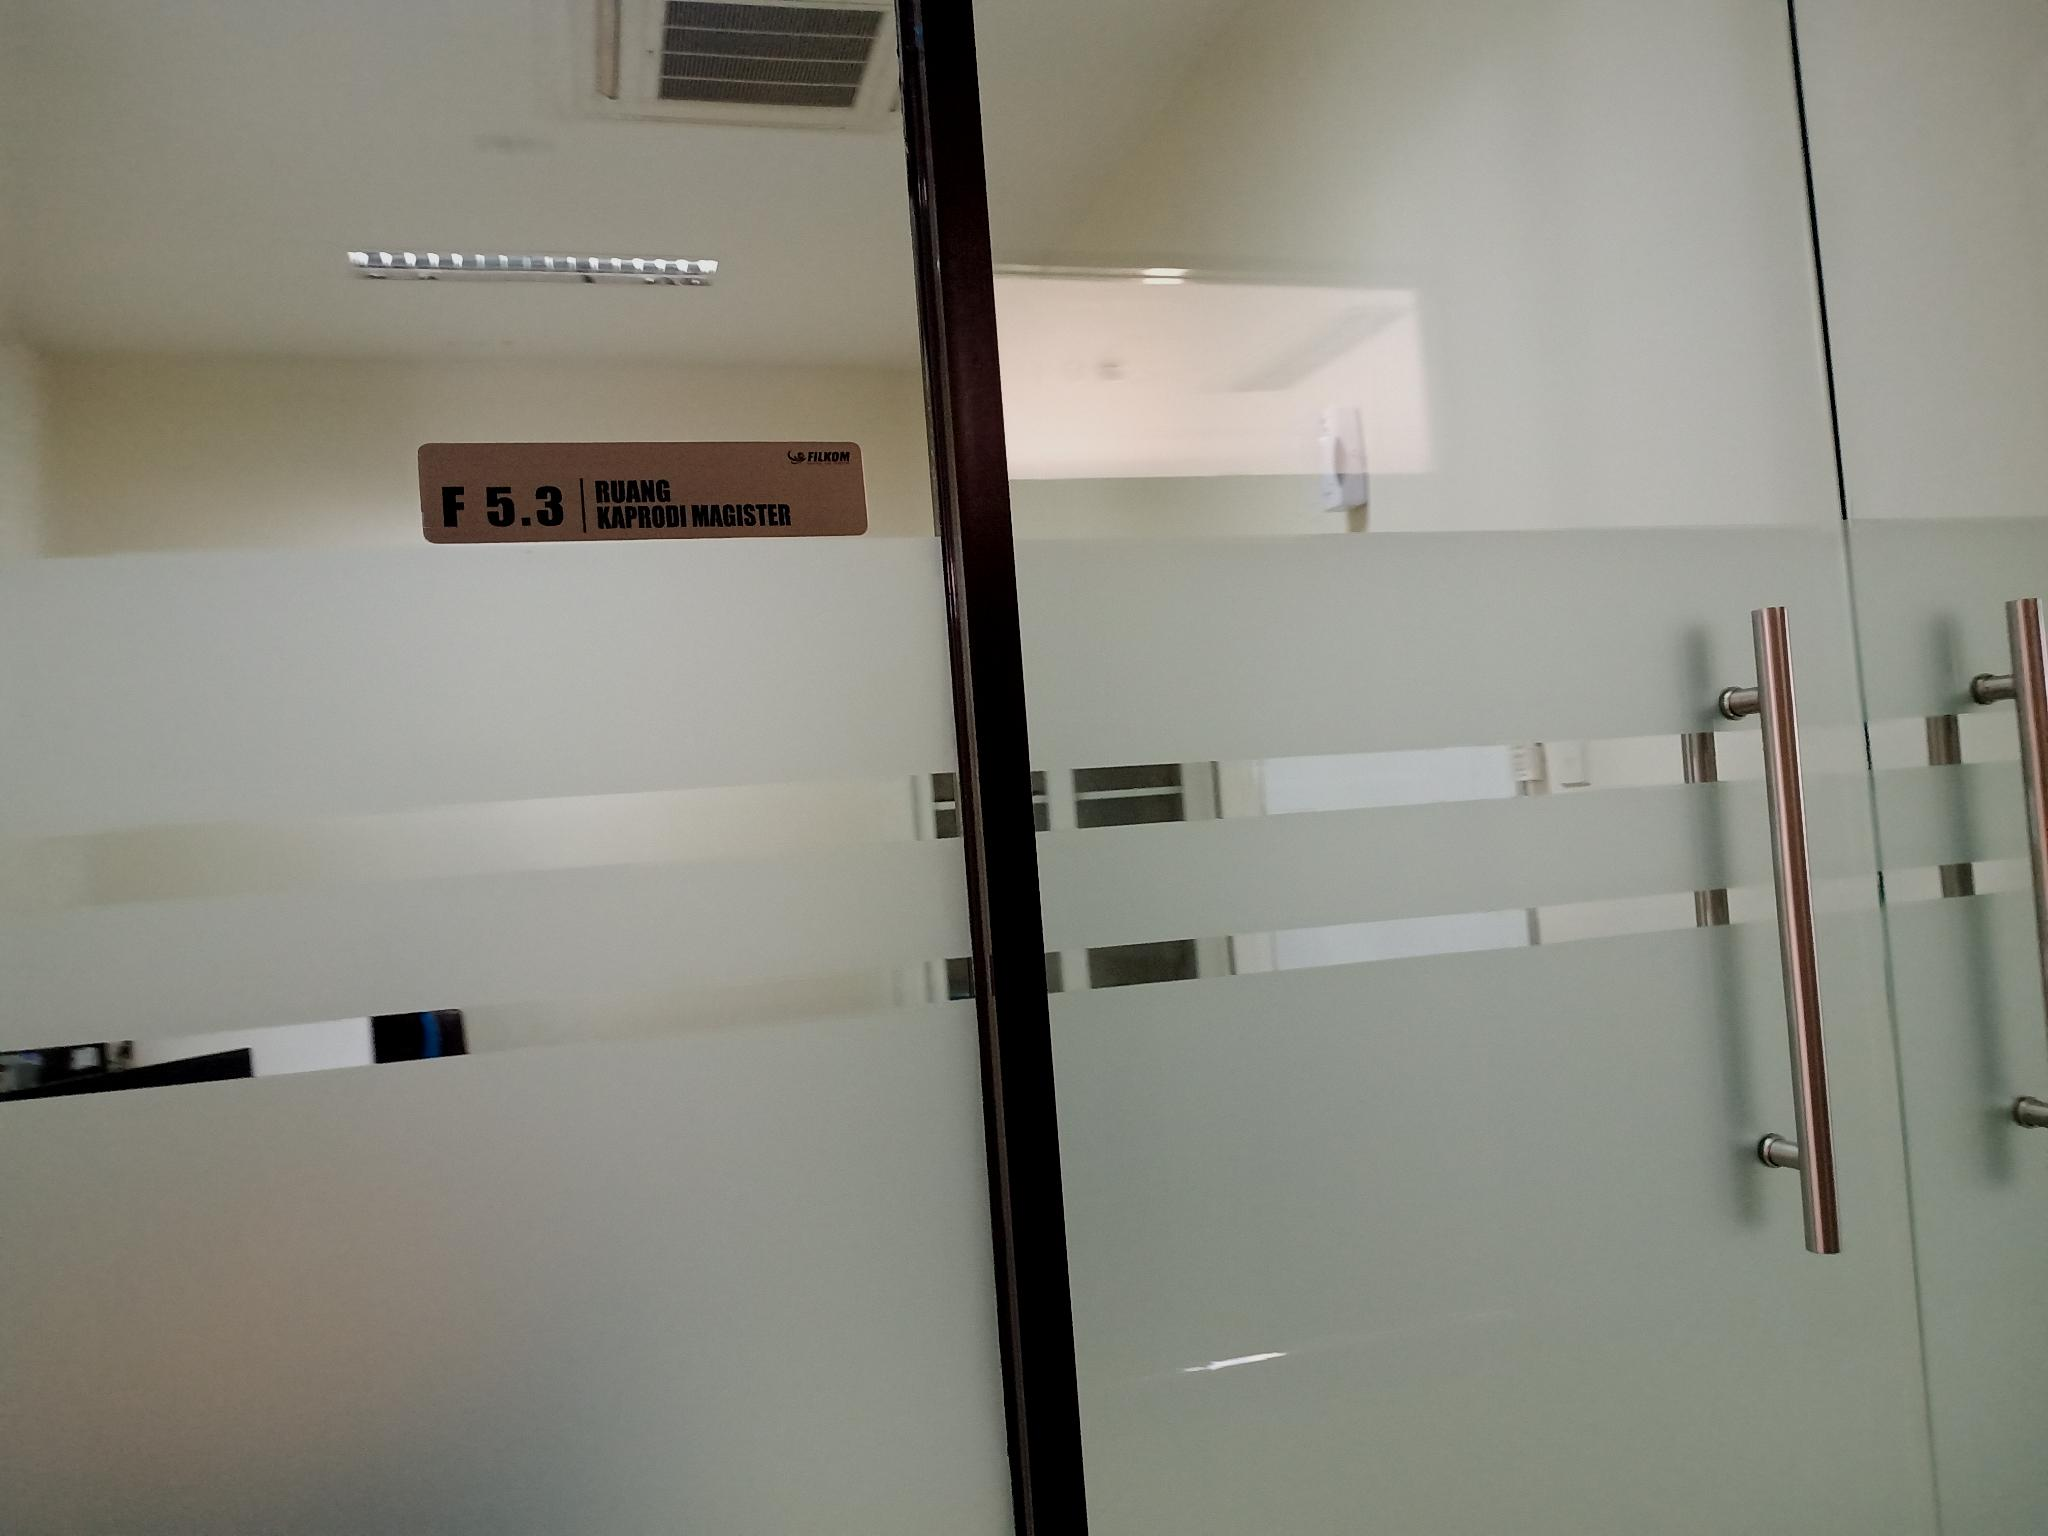plate: (418, 440, 869, 544)
